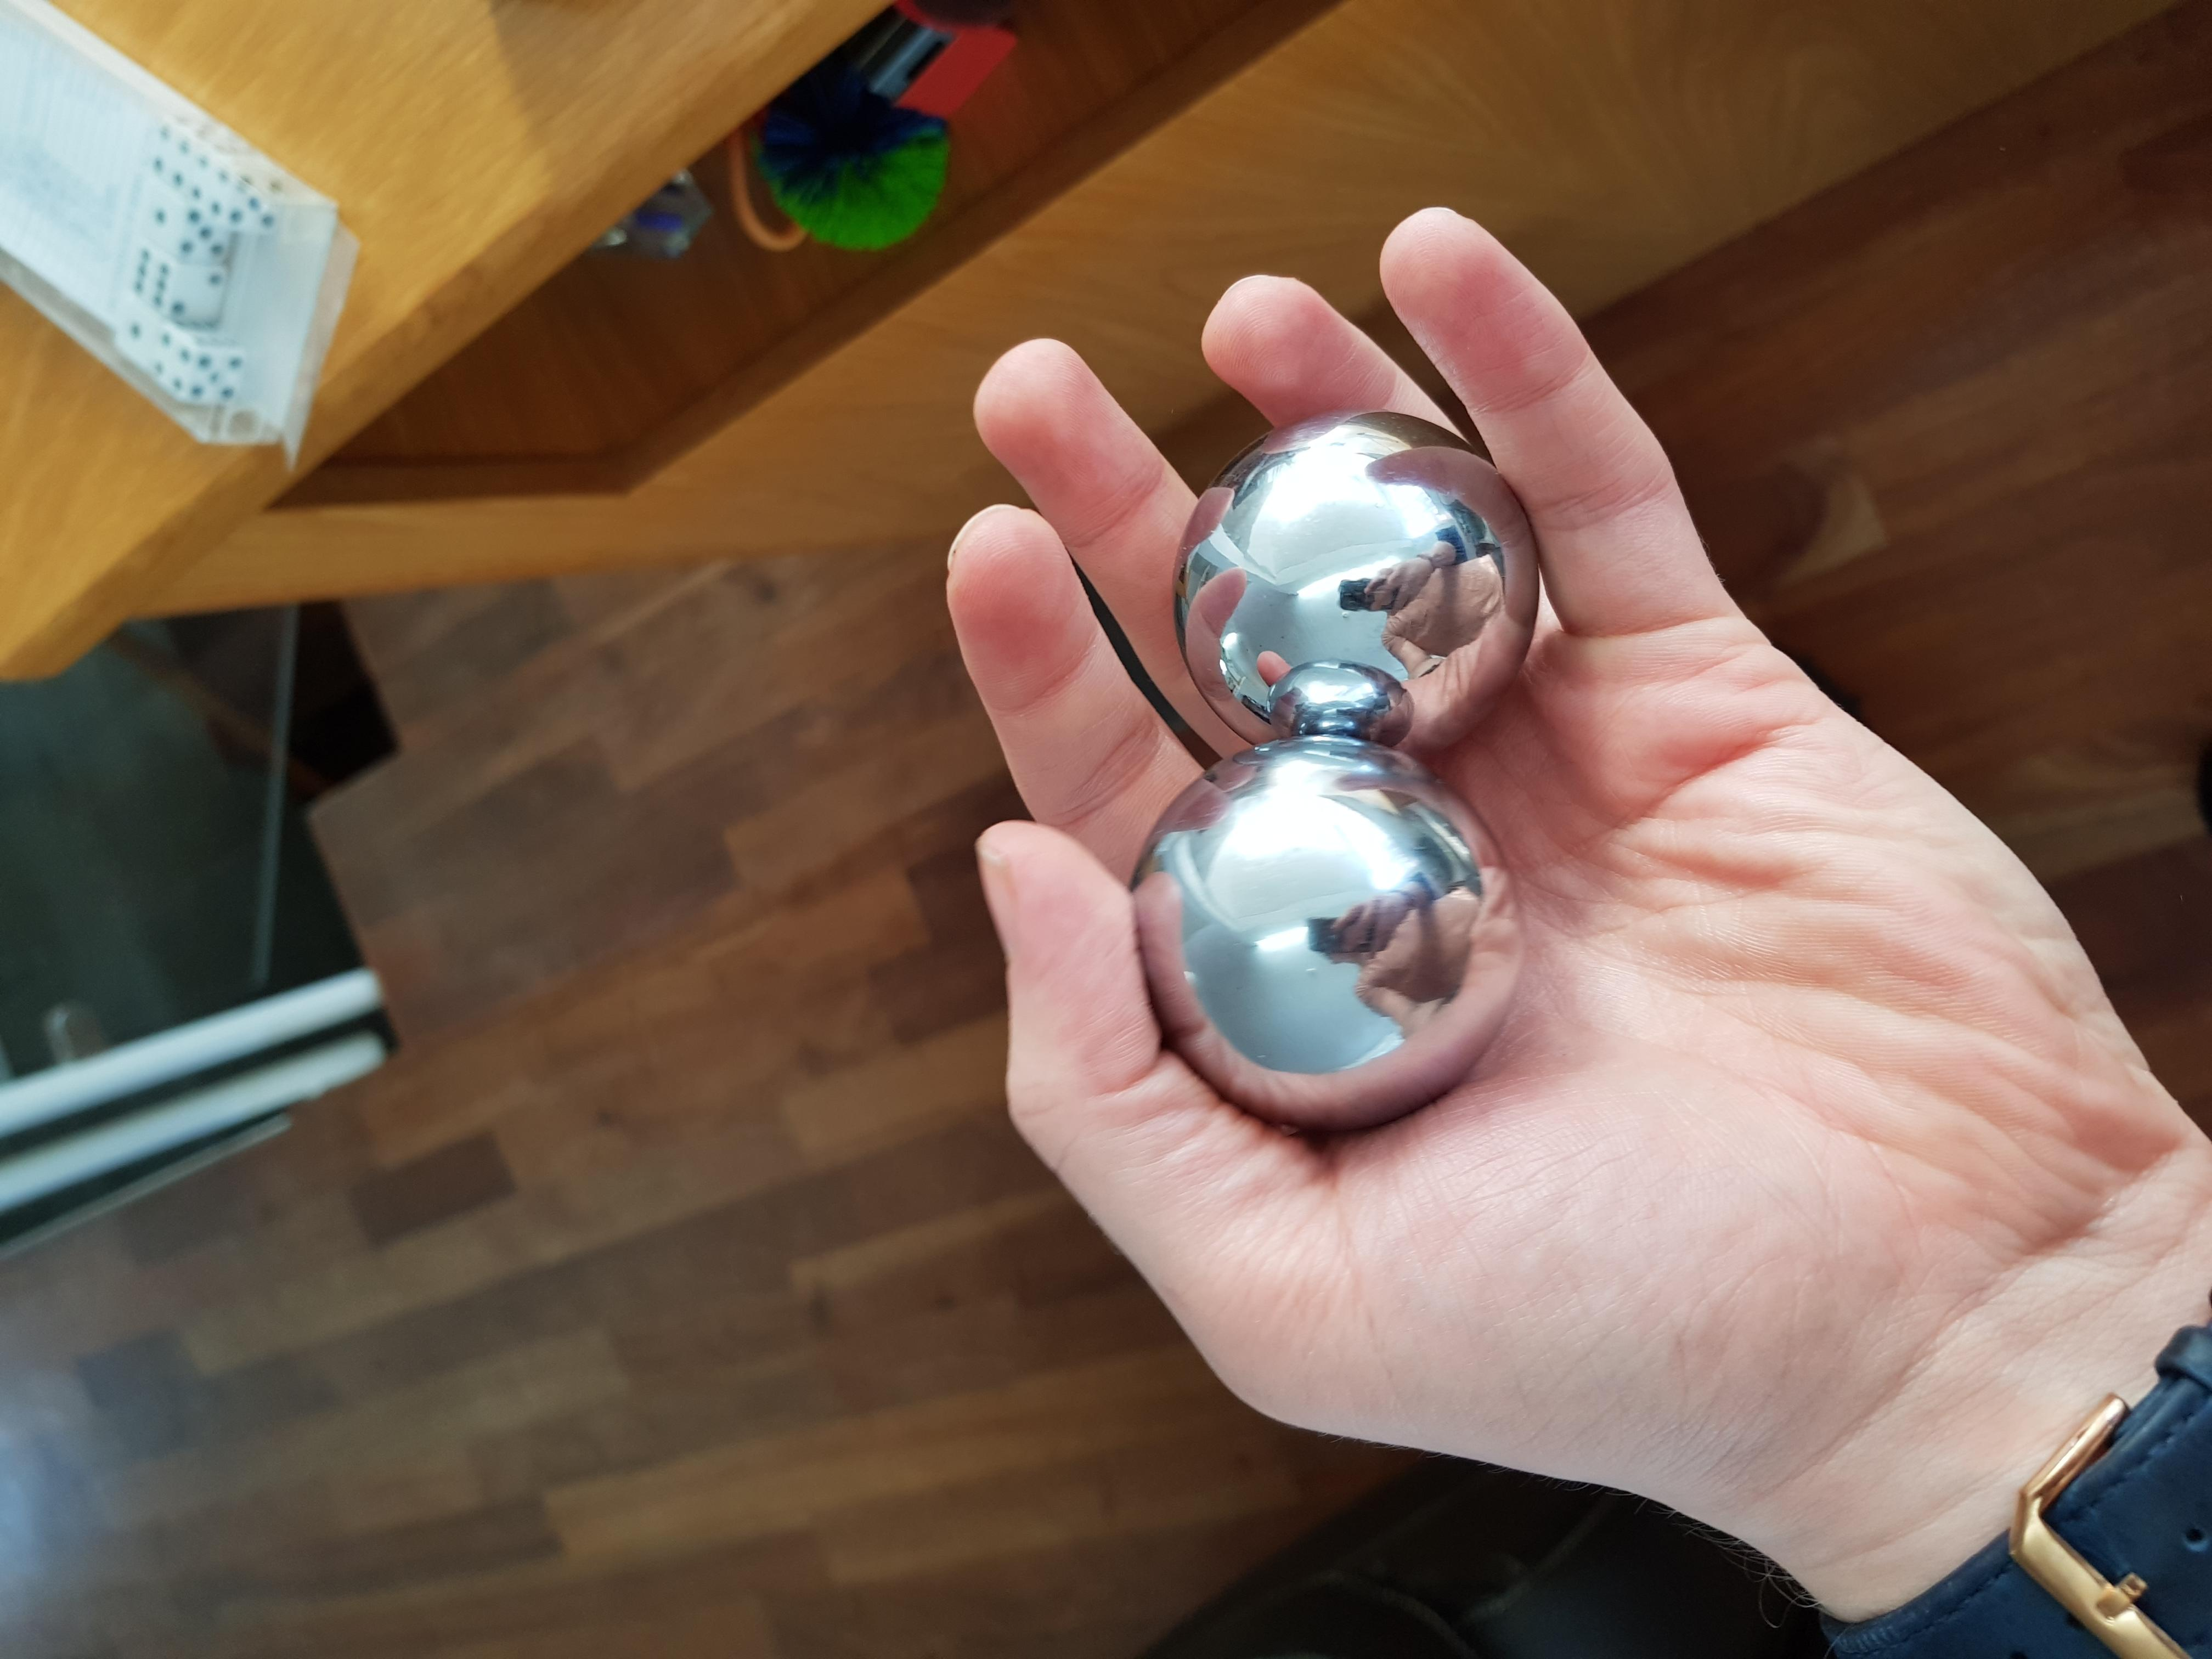sphere: (1125, 735, 1515, 1136), (1165, 408, 1550, 735)
